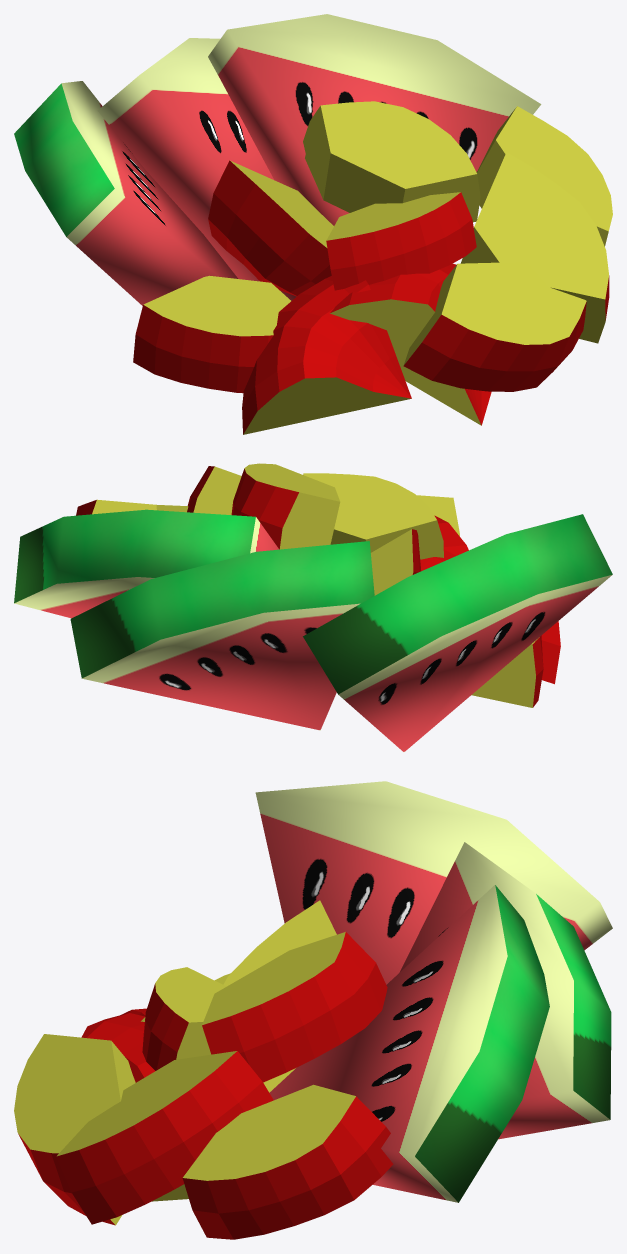
File: BowlContent2.obj
3 views of the same model, one above another, from view 1: azimuth 30°, elevation 25°; view 2: azimuth 150°, elevation 25°; view 3: azimuth 270°, elevation 25° (orthographic). The views are drawn at different scales.
Parts seen in each view (by area): view 1: Melon_low.003_Sphere.005, Melon_low.001_Sphere.003, Bouncing_apple.036_Cylinder.015, Melon_low.002_Sphere.004, Bouncing_apple.035_Cylinder.014, Bouncing_apple.033_Cylinder.015, Bouncing_apple.037_Cylinder.005, Bouncing_apple.034_Cylinder.005, Bouncing_apple.032_Cylinder.014, Bouncing_apple.031_Cylinder.005, Bouncing_apple.038_Cylinder.014, Bouncing_apple.039_Cylinder.015; view 2: Melon_low.002_Sphere.004, Melon_low.001_Sphere.003, Melon_low.003_Sphere.005, Bouncing_apple.033_Cylinder.015, Bouncing_apple.031_Cylinder.005, Bouncing_apple.034_Cylinder.005, Bouncing_apple.032_Cylinder.014, Bouncing_apple.037_Cylinder.005, Bouncing_apple.035_Cylinder.014, Bouncing_apple.039_Cylinder.015, Bouncing_apple.036_Cylinder.015, Bouncing_apple.038_Cylinder.014; view 3: Melon_low.003_Sphere.005, Melon_low.001_Sphere.003, Bouncing_apple.039_Cylinder.015, Melon_low.002_Sphere.004, Bouncing_apple.037_Cylinder.005, Bouncing_apple.033_Cylinder.015, Bouncing_apple.036_Cylinder.015, Bouncing_apple.031_Cylinder.005, Bouncing_apple.032_Cylinder.014, Bouncing_apple.038_Cylinder.014.
Part boxes in pixels (bbox=[...]): Melon_low.003_Sphere.005: bbox=[208, 14, 541, 225]; Melon_low.001_Sphere.003: bbox=[14, 81, 238, 305]; Bouncing_apple.036_Cylinder.015: bbox=[403, 262, 586, 391]; Melon_low.002_Sphere.004: bbox=[97, 38, 296, 300]; Bouncing_apple.035_Cylinder.014: bbox=[242, 276, 411, 434]; Bouncing_apple.033_Cylinder.015: bbox=[303, 101, 480, 222]; Bouncing_apple.037_Cylinder.005: bbox=[460, 152, 609, 343]; Bouncing_apple.034_Cylinder.005: bbox=[133, 275, 290, 393]; Bouncing_apple.032_Cylinder.014: bbox=[208, 160, 333, 296]; Bouncing_apple.031_Cylinder.005: bbox=[326, 192, 476, 290]; Bouncing_apple.038_Cylinder.014: bbox=[330, 263, 491, 425]; Bouncing_apple.039_Cylinder.015: bbox=[476, 106, 612, 246]; Melon_low.002_Sphere.004: bbox=[70, 541, 374, 730]; Melon_low.001_Sphere.003: bbox=[303, 514, 612, 751]; Melon_low.003_Sphere.005: bbox=[14, 509, 278, 618]; Bouncing_apple.033_Cylinder.015: bbox=[231, 463, 340, 549]; Bouncing_apple.031_Cylinder.005: bbox=[303, 473, 443, 559]; Bouncing_apple.034_Cylinder.005: bbox=[471, 635, 543, 707]; Bouncing_apple.032_Cylinder.014: bbox=[371, 529, 421, 595]; Bouncing_apple.037_Cylinder.005: bbox=[187, 466, 241, 514]; Bouncing_apple.035_Cylinder.014: bbox=[420, 549, 560, 684]; Bouncing_apple.039_Cylinder.015: bbox=[76, 499, 188, 515]; Bouncing_apple.036_Cylinder.015: bbox=[417, 495, 459, 536]; Bouncing_apple.038_Cylinder.014: bbox=[434, 515, 468, 555]; Melon_low.003_Sphere.005: bbox=[269, 885, 549, 1202]; Melon_low.001_Sphere.003: bbox=[255, 781, 612, 984]; Bouncing_apple.039_Cylinder.015: bbox=[182, 1084, 393, 1239]; Melon_low.002_Sphere.004: bbox=[399, 842, 611, 1139]; Bouncing_apple.037_Cylinder.005: bbox=[56, 1051, 273, 1224]; Bouncing_apple.033_Cylinder.015: bbox=[202, 932, 387, 1082]; Bouncing_apple.036_Cylinder.015: bbox=[14, 1034, 135, 1225]; Bouncing_apple.031_Cylinder.005: bbox=[142, 967, 226, 1070]; Bouncing_apple.032_Cylinder.014: bbox=[223, 900, 336, 1092]; Bouncing_apple.038_Cylinder.014: bbox=[87, 1013, 188, 1201].
Bounding box in the file's own units: 1.25 × 0.6011 × 1.11.
